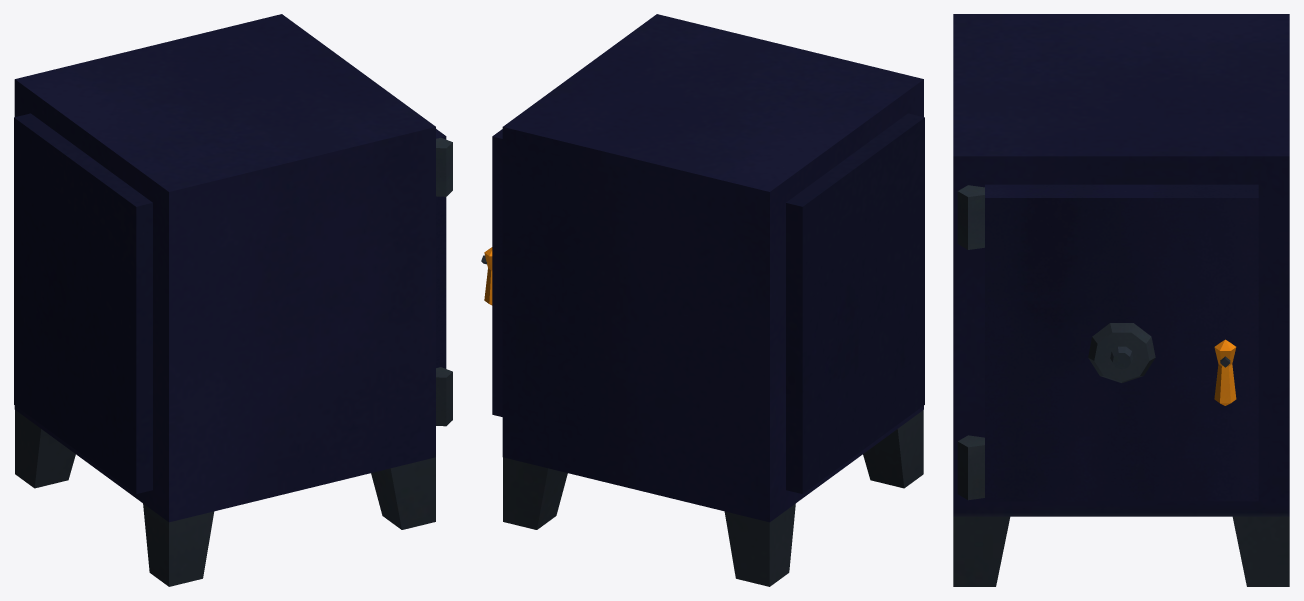
Rendered from safe.FBX.
The picture shows the model from 3 angles, left to right: view 1: azimuth 30°, elevation 25°; view 2: azimuth 150°, elevation 25°; view 3: azimuth 270°, elevation 25°; orthographic projection. The views are drawn at different scales.
Visible parts, largest first — view 1: safe, safe_tuer; view 2: safe, safe_tuer; view 3: safe_tuer, safe.
Part boxes in pixels (box(x1,y1,x2,y2)): safe: box(14, 14, 435, 586); safe_tuer: box(436, 129, 452, 426); safe: box(502, 14, 924, 586); safe_tuer: box(481, 129, 502, 416); safe_tuer: box(957, 184, 1258, 501); safe: box(953, 14, 1289, 586).
Size of the model in its own units: 80.55 by 91.39 by 64.67.
